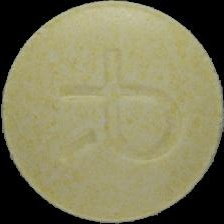0904-6237: (0, 0, 224, 224)
